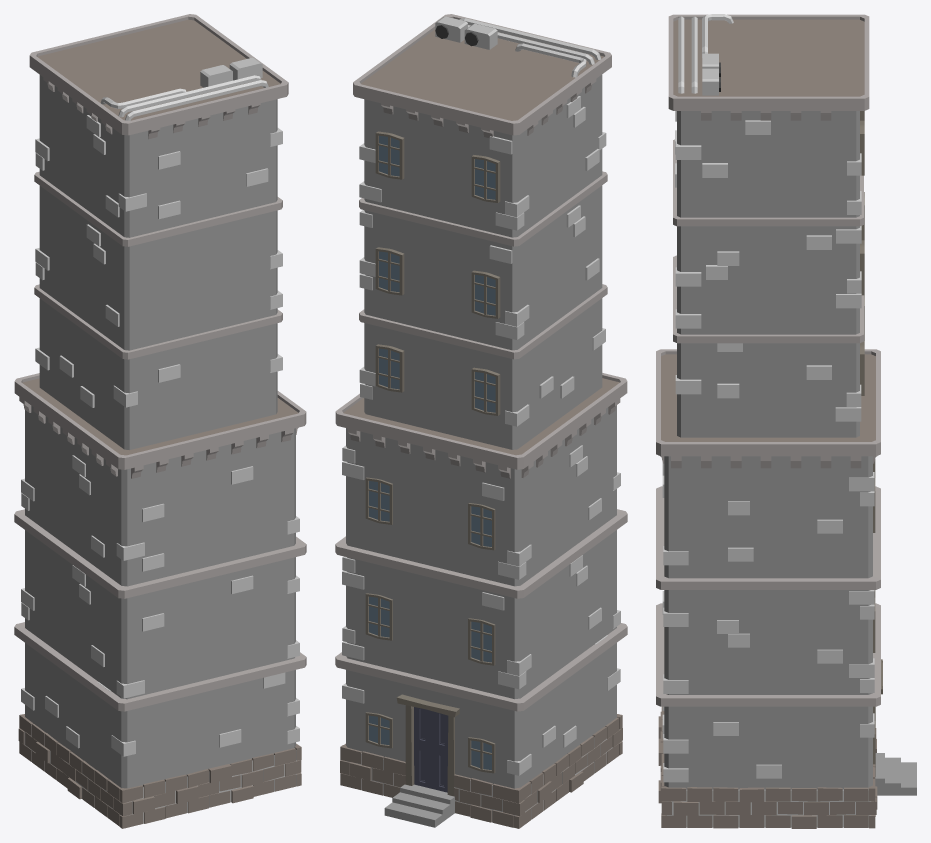
Rendered from 6Story_Stack.glb.
The picture shows the model from 3 angles, left to right: view 1: azimuth 30°, elevation 25°; view 2: azimuth 150°, elevation 25°; view 3: azimuth 270°, elevation 25°; orthographic projection. The views are drawn at different scales.
Visible parts, largest first — view 1: 6Story_Stack; view 2: 6Story_Stack; view 3: 6Story_Stack.
Part boxes in pixels (box(x1,y1,x2,y2)): 6Story_Stack: box(14, 14, 306, 828); 6Story_Stack: box(335, 14, 627, 828); 6Story_Stack: box(656, 14, 916, 828).
Bounding box in the file's own units: 2.16 × 7.8 × 2.5.
1 material, 1 textured.
